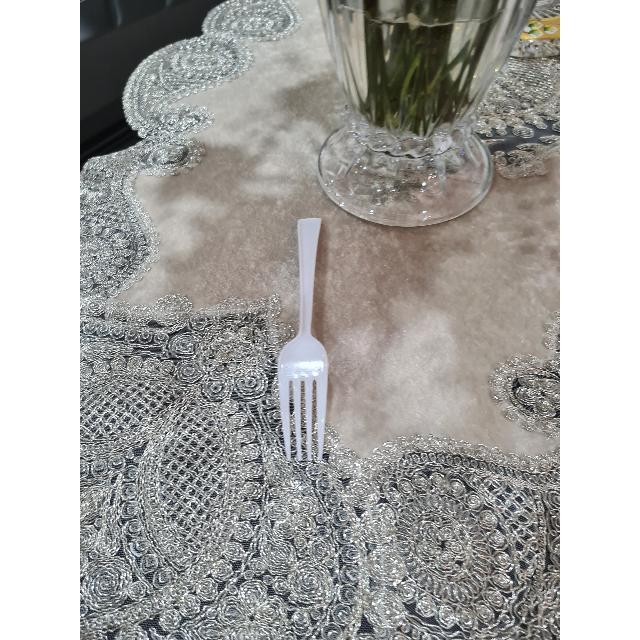Plastico descartable: (278, 218, 329, 461)
